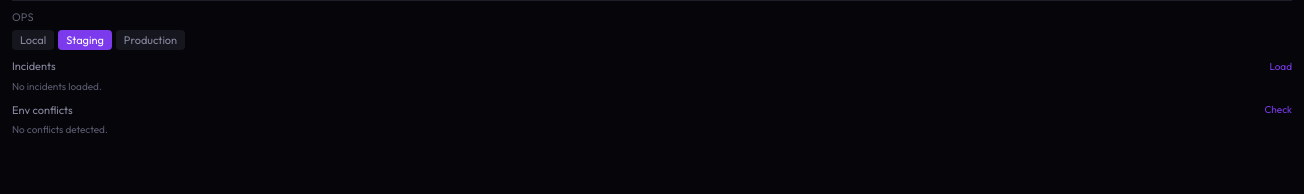
it: OpsPanels (US-UI2-09) › loads incidents from /api/incidents with service+env and renders them
Click the button with test id "load-incidents" at (1281, 66), box left=1269, top=59, right=1292, bottom=74
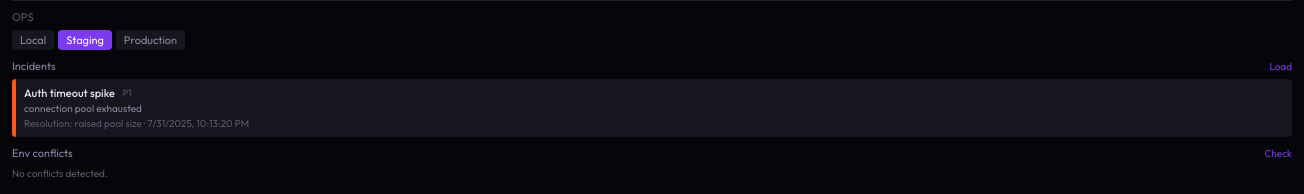
Now the list item with test id "incident-inc-1" shows "Auth timeout spike", box left=24, top=86, right=115, bottom=100
